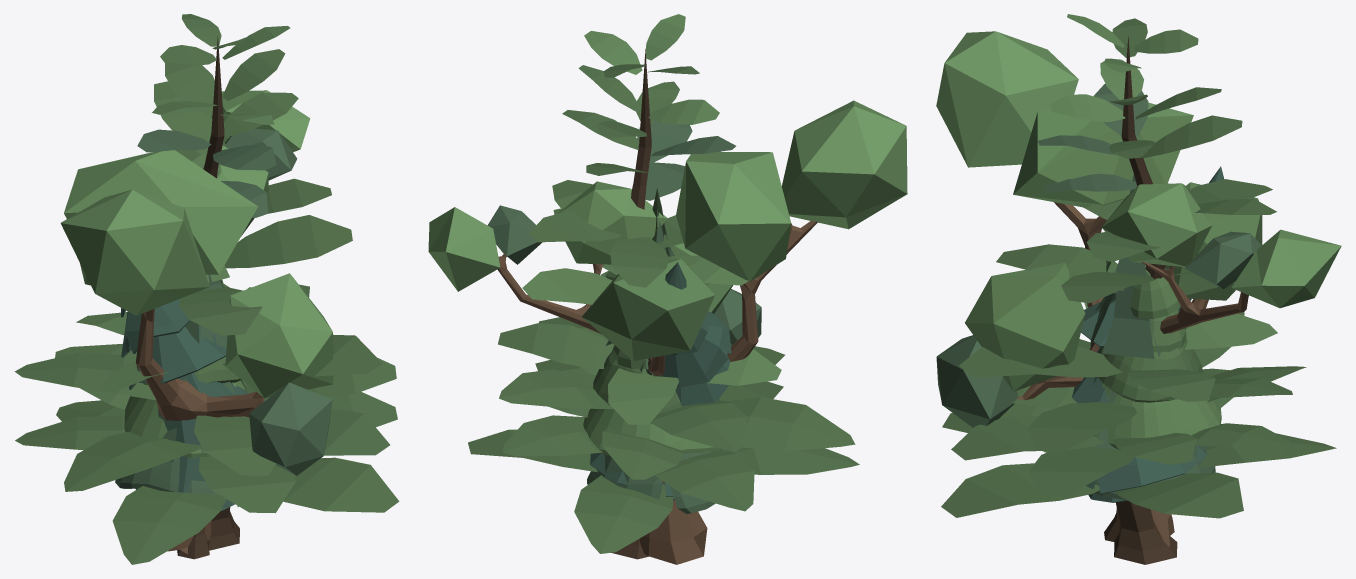
Rendered from trees.glb.
3 views of the same model, side by side, from view 1: azimuth 30°, elevation 25°; view 2: azimuth 150°, elevation 25°; view 3: azimuth 270°, elevation 25° (orthographic). The views are drawn at different scales.
Visible parts, largest first — view 1: Tree3, Tree1, Tree4, Tree2, Tree5; view 2: Tree3, Tree1, Tree2, Tree4; view 3: Tree3, Tree1, Tree2, Tree4, Tree5.
Part boxes in pixels (<box>): Tree3: <box>14,14,399,564</box>; Tree1: <box>60,90,333,554</box>; Tree4: <box>121,299,247,510</box>; Tree2: <box>115,279,245,542</box>; Tree5: <box>163,265,246,559</box>; Tree3: <box>468,14,859,559</box>; Tree1: <box>428,100,907,564</box>; Tree2: <box>583,345,722,513</box>; Tree4: <box>590,262,731,544</box>; Tree3: <box>941,14,1336,564</box>; Tree1: <box>936,31,1341,535</box>; Tree2: <box>1094,265,1221,534</box>; Tree4: <box>1072,166,1223,547</box>; Tree5: <box>1090,174,1186,541</box>.
Size of the model in its own units: 6.23 by 8.75 by 6.06.
